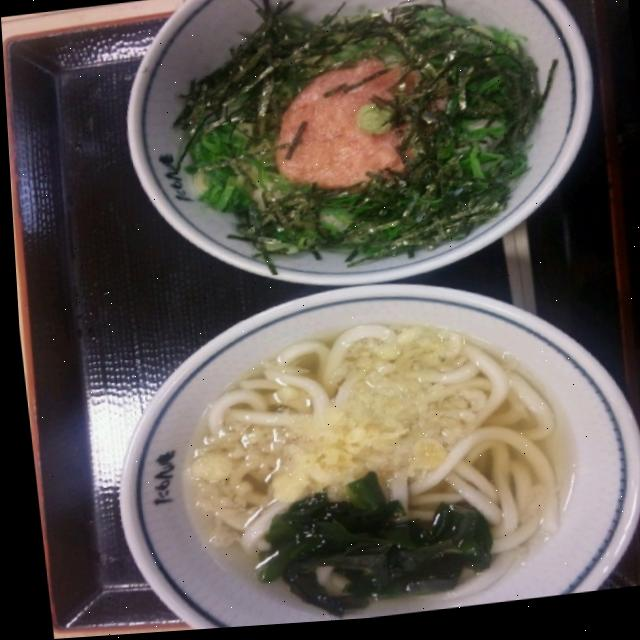刺身生食: (103, 0, 608, 315)
面条主食: (75, 260, 640, 637)
